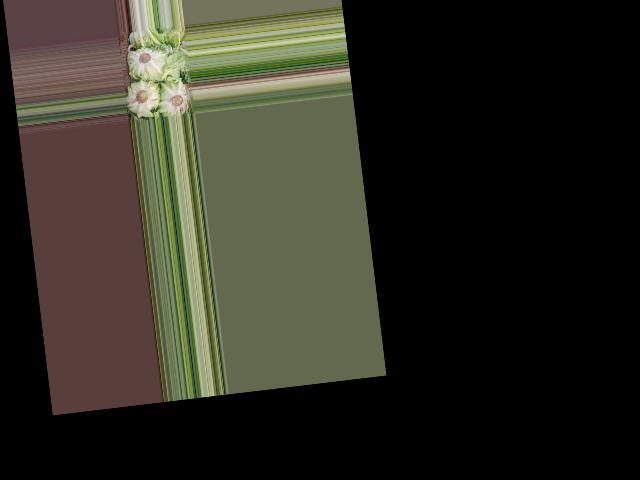lettuce: (156, 79, 190, 117)
